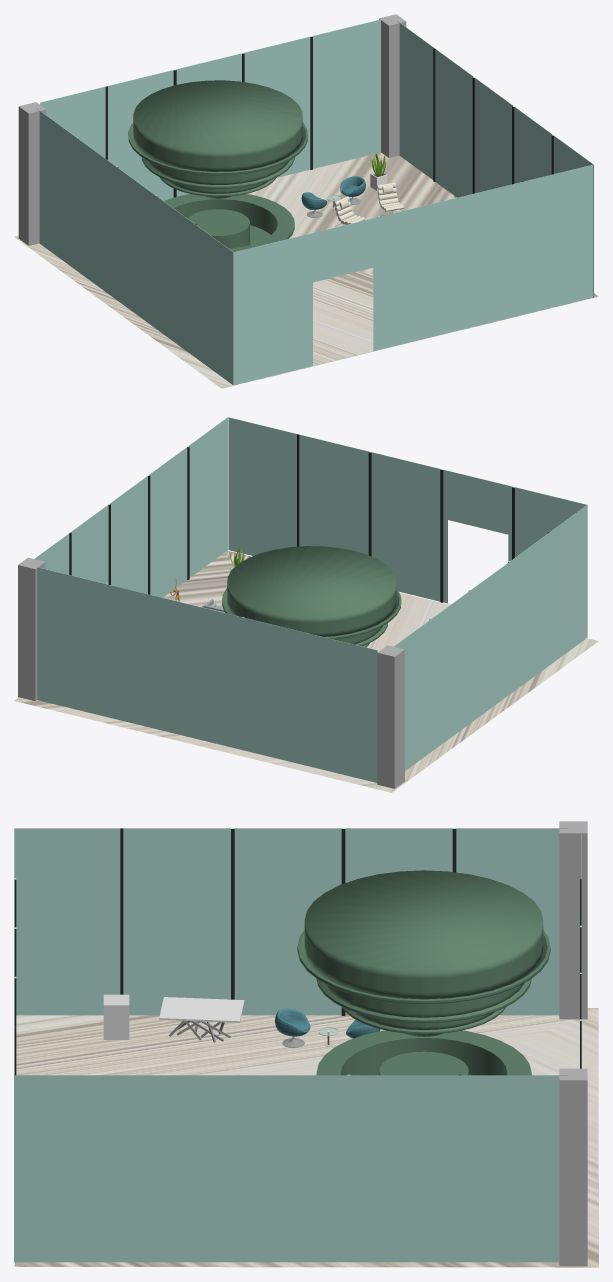
Rendered from Office.fbx.
3 renders of one model, top to bottom at view 1: azimuth 30°, elevation 25°; view 2: azimuth 150°, elevation 25°; view 3: azimuth 270°, elevation 25°, orthographic. The views are drawn at different scales.
Visible parts, largest first — view 1: Cube.009, Cube.007, Cube.002, Cylinder.001, Cube.005, Cube.011, Cylinder, Cube.012, Cube, Cylinder.002, Cube.006, Cube.003 (+2 smaller); view 2: Cube.002, Cube.009, Cube.007, Cube.005, Cylinder.001, Cube.011, Cube.012, Cube, Cube.010, Cube.006; view 3: Cube.005, Cube.007, Cylinder.001, Cube.011, Cylinder, Cube, Cube.012, Mesh1 sq Model, Cube.008, Cylinder.002, Cube.001, Node.010.
Boxes of the visible parts, left/top/right/bottom form: Cube.009: left=233, top=164, right=592, bottom=385; Cube.007: left=36, top=108, right=233, bottom=385; Cube.002: left=40, top=19, right=381, bottom=200; Cylinder.001: left=128, top=80, right=307, bottom=198; Cube.005: left=396, top=20, right=593, bottom=297; Cube.011: left=14, top=152, right=598, bottom=388; Cylinder: left=164, top=194, right=294, bottom=252; Cube.012: left=18, top=102, right=46, bottom=245; Cube: left=379, top=14, right=406, bottom=157; Cylinder.002: left=188, top=209, right=250, bottom=248; Cube.006: left=433, top=48, right=553, bottom=193; Cube.003: left=105, top=37, right=312, bottom=197; Cube.002: left=37, top=567, right=377, bottom=782; Cube.009: left=228, top=417, right=586, bottom=604; Cube.007: left=391, top=505, right=587, bottom=770; Cube.005: left=31, top=417, right=228, bottom=597; Cylinder.001: left=222, top=546, right=401, bottom=647; Cube.011: left=14, top=550, right=598, bottom=792; Cube.012: left=377, top=645, right=404, bottom=788; Cube: left=18, top=557, right=45, bottom=700; Cube.010: left=297, top=434, right=514, bottom=602; Cube.006: left=69, top=446, right=189, bottom=594; Cube.005: left=14, top=1074, right=567, bottom=1262; Cube.007: left=14, top=828, right=567, bottom=1015; Cylinder.001: left=297, top=870, right=550, bottom=1036; Cube.011: left=14, top=1008, right=598, bottom=1267; Cylinder: left=316, top=1030, right=531, bottom=1075; Cube: left=559, top=1068, right=587, bottom=1266; Cube.012: left=559, top=821, right=587, bottom=1019; Mesh1 sq Model: left=159, top=997, right=244, bottom=1042; Cube.008: left=120, top=828, right=456, bottom=1015; Cylinder.002: left=379, top=1051, right=468, bottom=1075; Cube.001: left=103, top=994, right=129, bottom=1039; Node.010: left=275, top=1008, right=310, bottom=1047.
Size of the model in its own units: 4341 by 1466 by 4135.
Materials: 50 (3 with a texture image).
